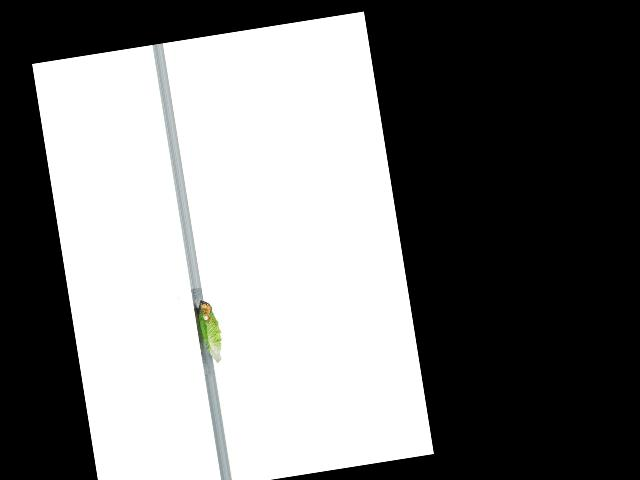lettuce: (192, 295, 227, 366)
